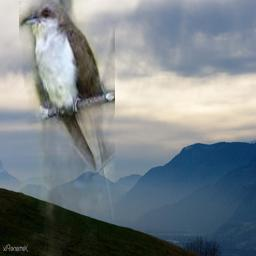Cuckoo: (19, 0, 115, 256)
